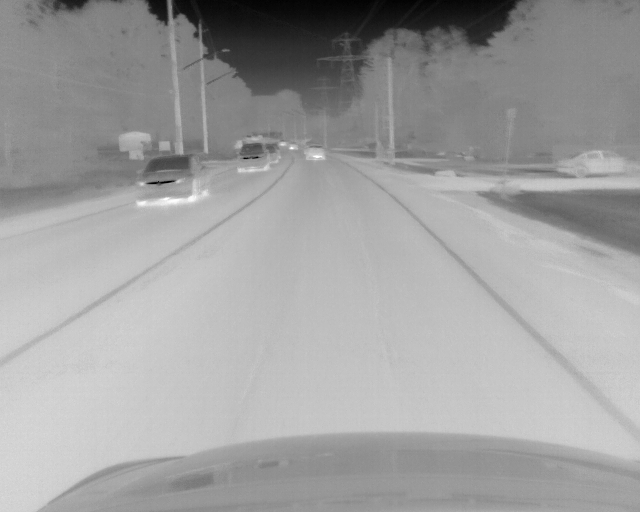car: (133, 153, 210, 208), (235, 142, 269, 172), (305, 144, 324, 161), (267, 142, 281, 164), (288, 143, 298, 151)
people: (384, 144, 395, 171), (375, 140, 383, 170)
